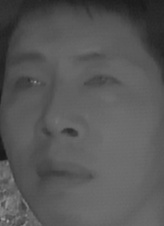eye: (80, 69, 122, 90), (11, 73, 47, 94)
mouth: (32, 155, 96, 194)
